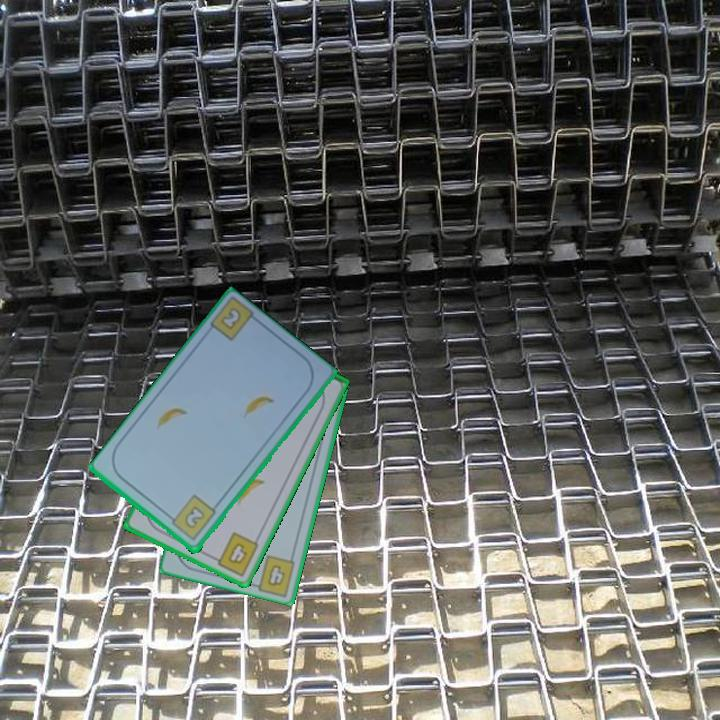2b: (164, 492, 219, 544), (217, 304, 244, 333)
4b: (208, 529, 262, 579), (264, 561, 288, 590)
